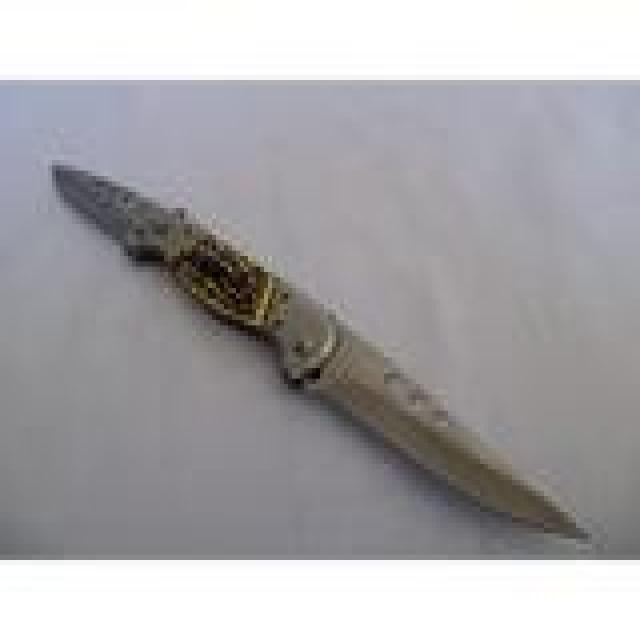Knife: (42, 140, 595, 548)
